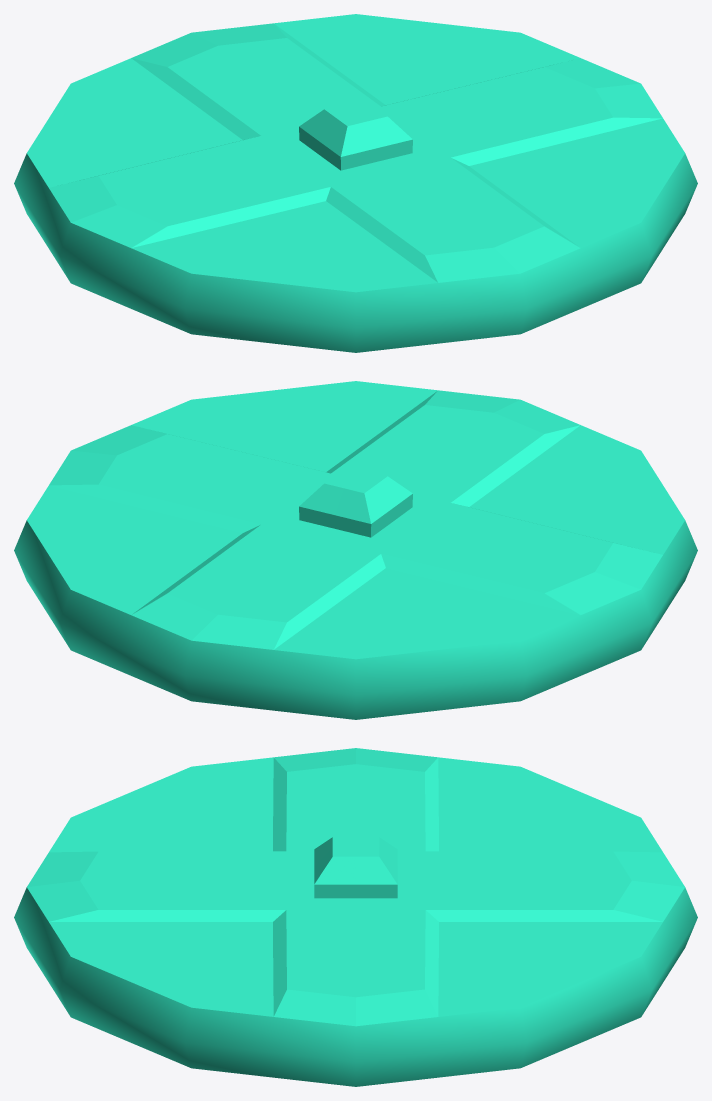
Rendered from Mina.fbx.
3 renders of one model, top to bottom at view 1: azimuth 30°, elevation 25°; view 2: azimuth 150°, elevation 25°; view 3: azimuth 270°, elevation 25°, orthographic.
Parts seen in each view (by area): view 1: Cylinder064; view 2: Cylinder064; view 3: Cylinder064.
Part boxes in pixels (left/top/right/bottom): Cylinder064: left=14, top=14, right=697, bottom=352; Cylinder064: left=14, top=381, right=697, bottom=719; Cylinder064: left=14, top=748, right=697, bottom=1086.
Bounding box in the file's own units: 6.62 × 1.08 × 6.62.
